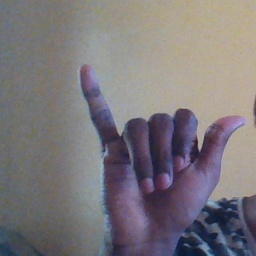J: (69, 61, 247, 244)
